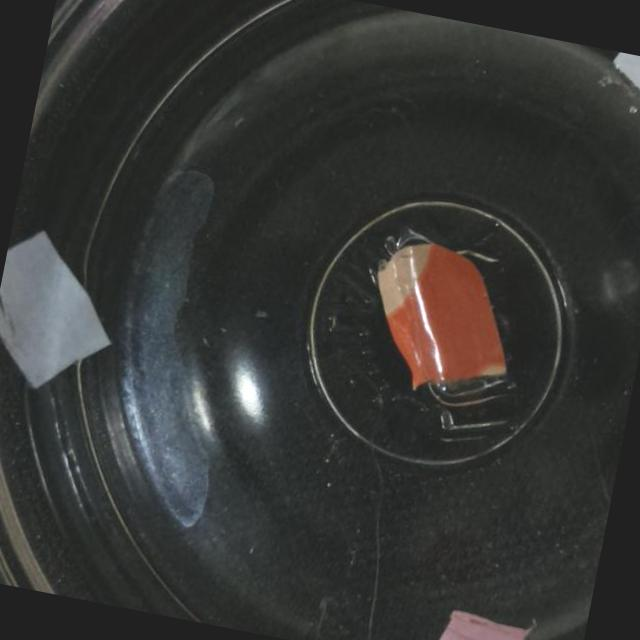fiber: (358, 233, 528, 408), (0, 222, 133, 407), (422, 603, 536, 640), (604, 51, 640, 120)
